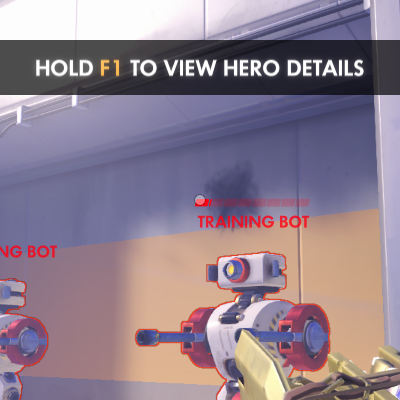hpbar: (194, 198, 311, 208)
